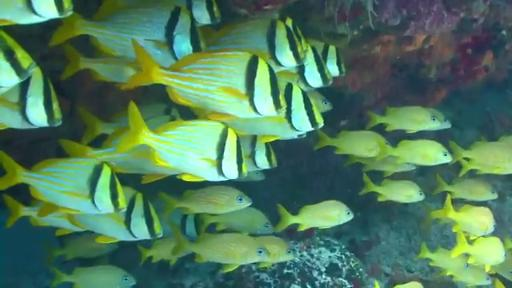Fish: (121, 41, 285, 119), (116, 103, 246, 180), (50, 2, 203, 59), (0, 152, 127, 216), (223, 84, 323, 139), (69, 187, 163, 243), (59, 140, 180, 183), (206, 17, 308, 67), (172, 232, 269, 272), (0, 68, 62, 129), (4, 195, 84, 235), (94, 0, 220, 25), (61, 44, 138, 83), (430, 194, 495, 238), (160, 186, 251, 214), (277, 47, 332, 91), (275, 200, 353, 231), (0, 30, 37, 91), (450, 141, 511, 175), (452, 232, 505, 271), (367, 106, 446, 132), (201, 207, 274, 235), (314, 131, 390, 157), (49, 232, 118, 260), (155, 201, 203, 240), (360, 174, 424, 203), (52, 265, 136, 287), (0, 0, 73, 25), (78, 107, 128, 143), (433, 175, 498, 200), (388, 140, 452, 165), (296, 46, 332, 87), (347, 156, 416, 176), (138, 237, 191, 263), (416, 243, 467, 270), (308, 40, 345, 76), (240, 136, 277, 171), (255, 236, 295, 267), (91, 36, 136, 60), (444, 264, 491, 286), (490, 253, 511, 280), (307, 90, 332, 112), (430, 108, 451, 131), (232, 171, 265, 181), (394, 281, 423, 287), (498, 136, 511, 144), (494, 279, 505, 287)
